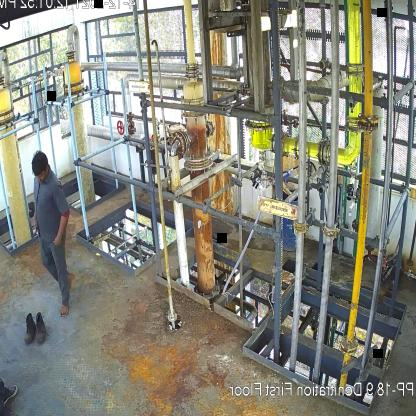no_shoes: (58, 296, 72, 316)
shoes: (21, 311, 37, 350), (35, 311, 49, 344)
